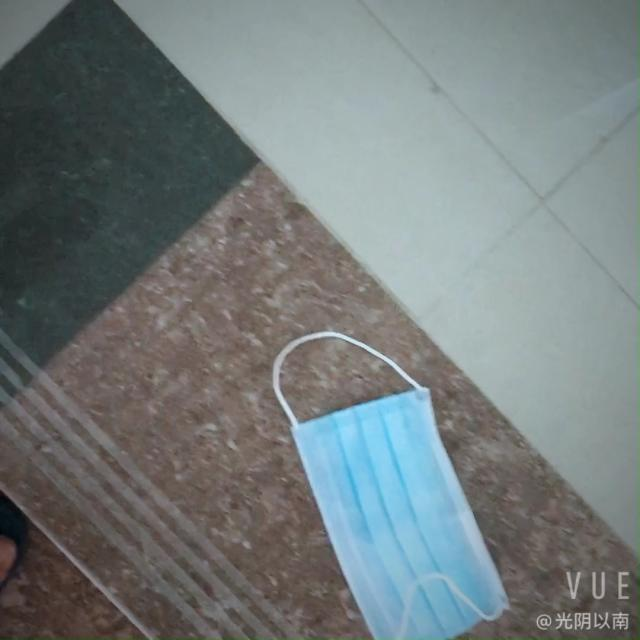face mask: (303, 379, 505, 640)
